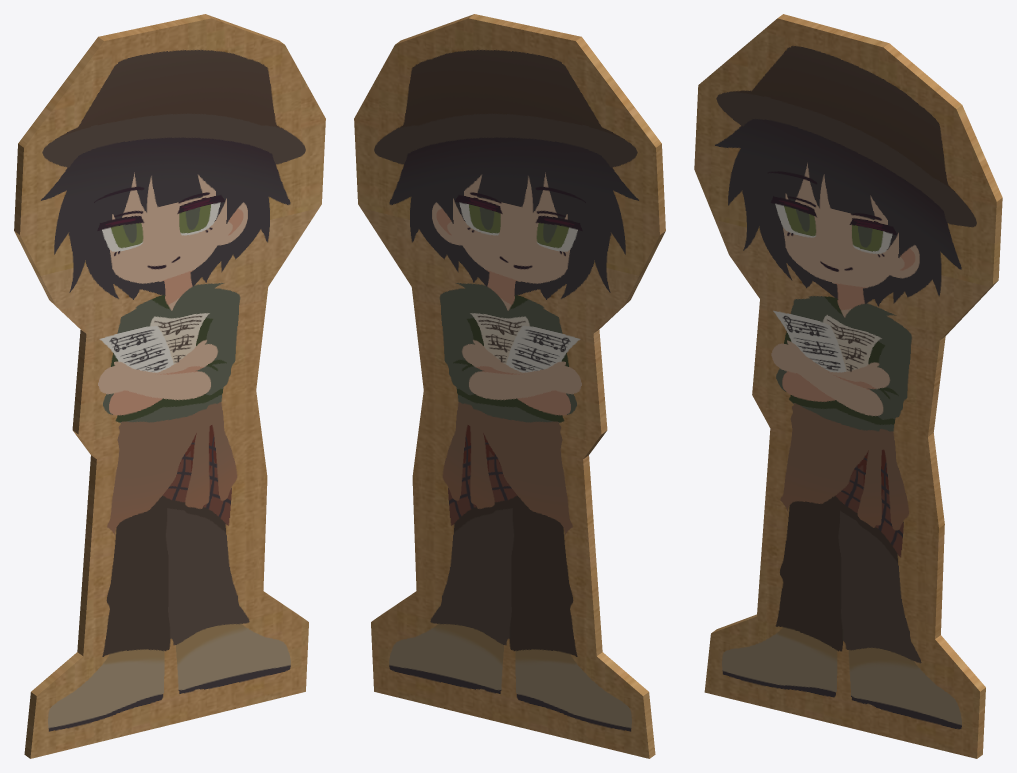
Rendered from NPC_Base_2_Musician.glb.
3 views of the same model, side by side, from view 1: azimuth 30°, elevation 25°; view 2: azimuth 150°, elevation 25°; view 3: azimuth 330°, elevation 25° (orthographic).
Parts seen in each view (by area): view 1: NPC_Base_2_Musician; view 2: NPC_Base_2_Musician; view 3: NPC_Base_2_Musician.
Part boxes in pixels (left/top/right/bottom): NPC_Base_2_Musician: left=14, top=14, right=325, bottom=758; NPC_Base_2_Musician: left=354, top=14, right=665, bottom=758; NPC_Base_2_Musician: left=694, top=14, right=1002, bottom=758.
Size of the model in its own units: 0.89 by 1.95 by 0.03.
Materials: 1 (1 with a texture image).
